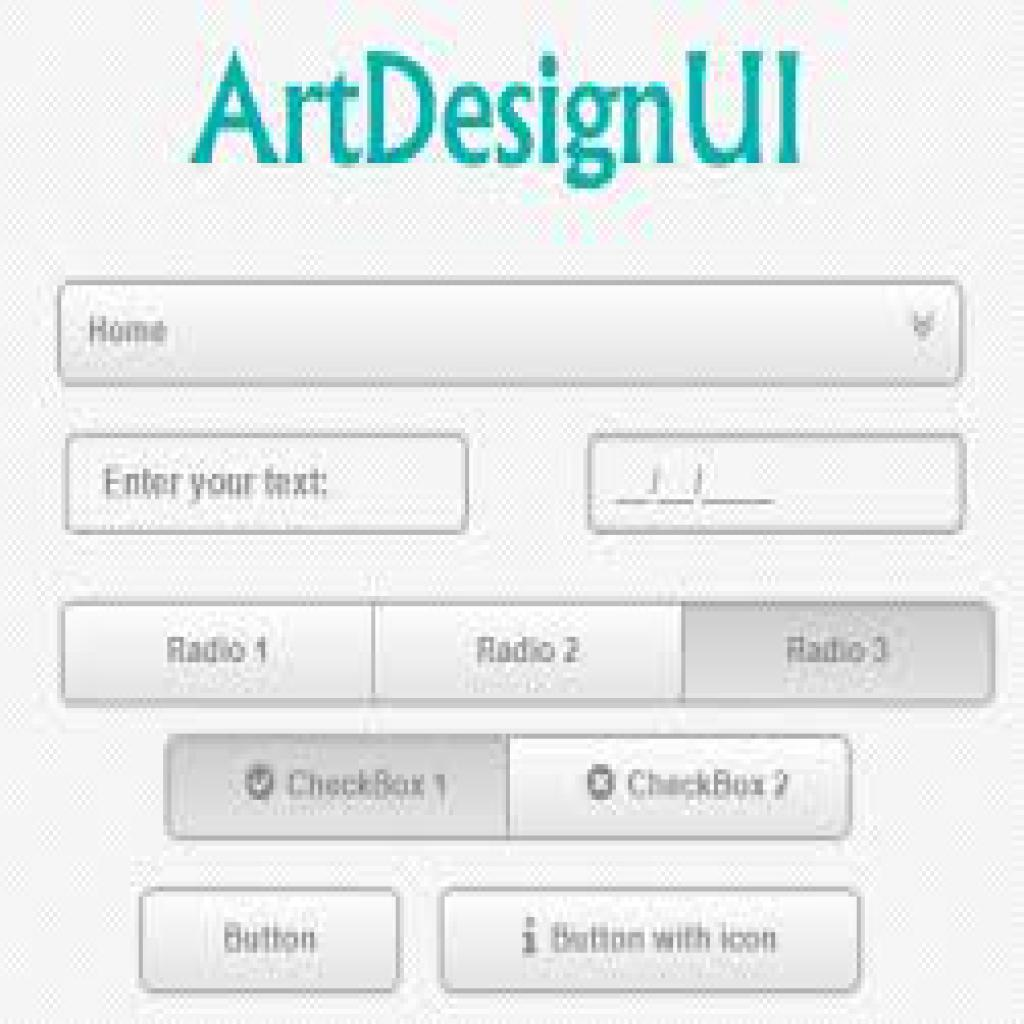button: (442, 891, 859, 994), (512, 737, 853, 840), (169, 738, 508, 841), (63, 602, 375, 706), (375, 602, 686, 705), (686, 600, 993, 704), (141, 889, 400, 993)
dropdown: (61, 282, 964, 389)
input: (68, 434, 468, 536), (590, 434, 969, 535)
